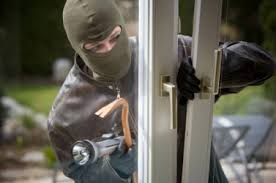crowbar: (93, 96, 138, 183)
